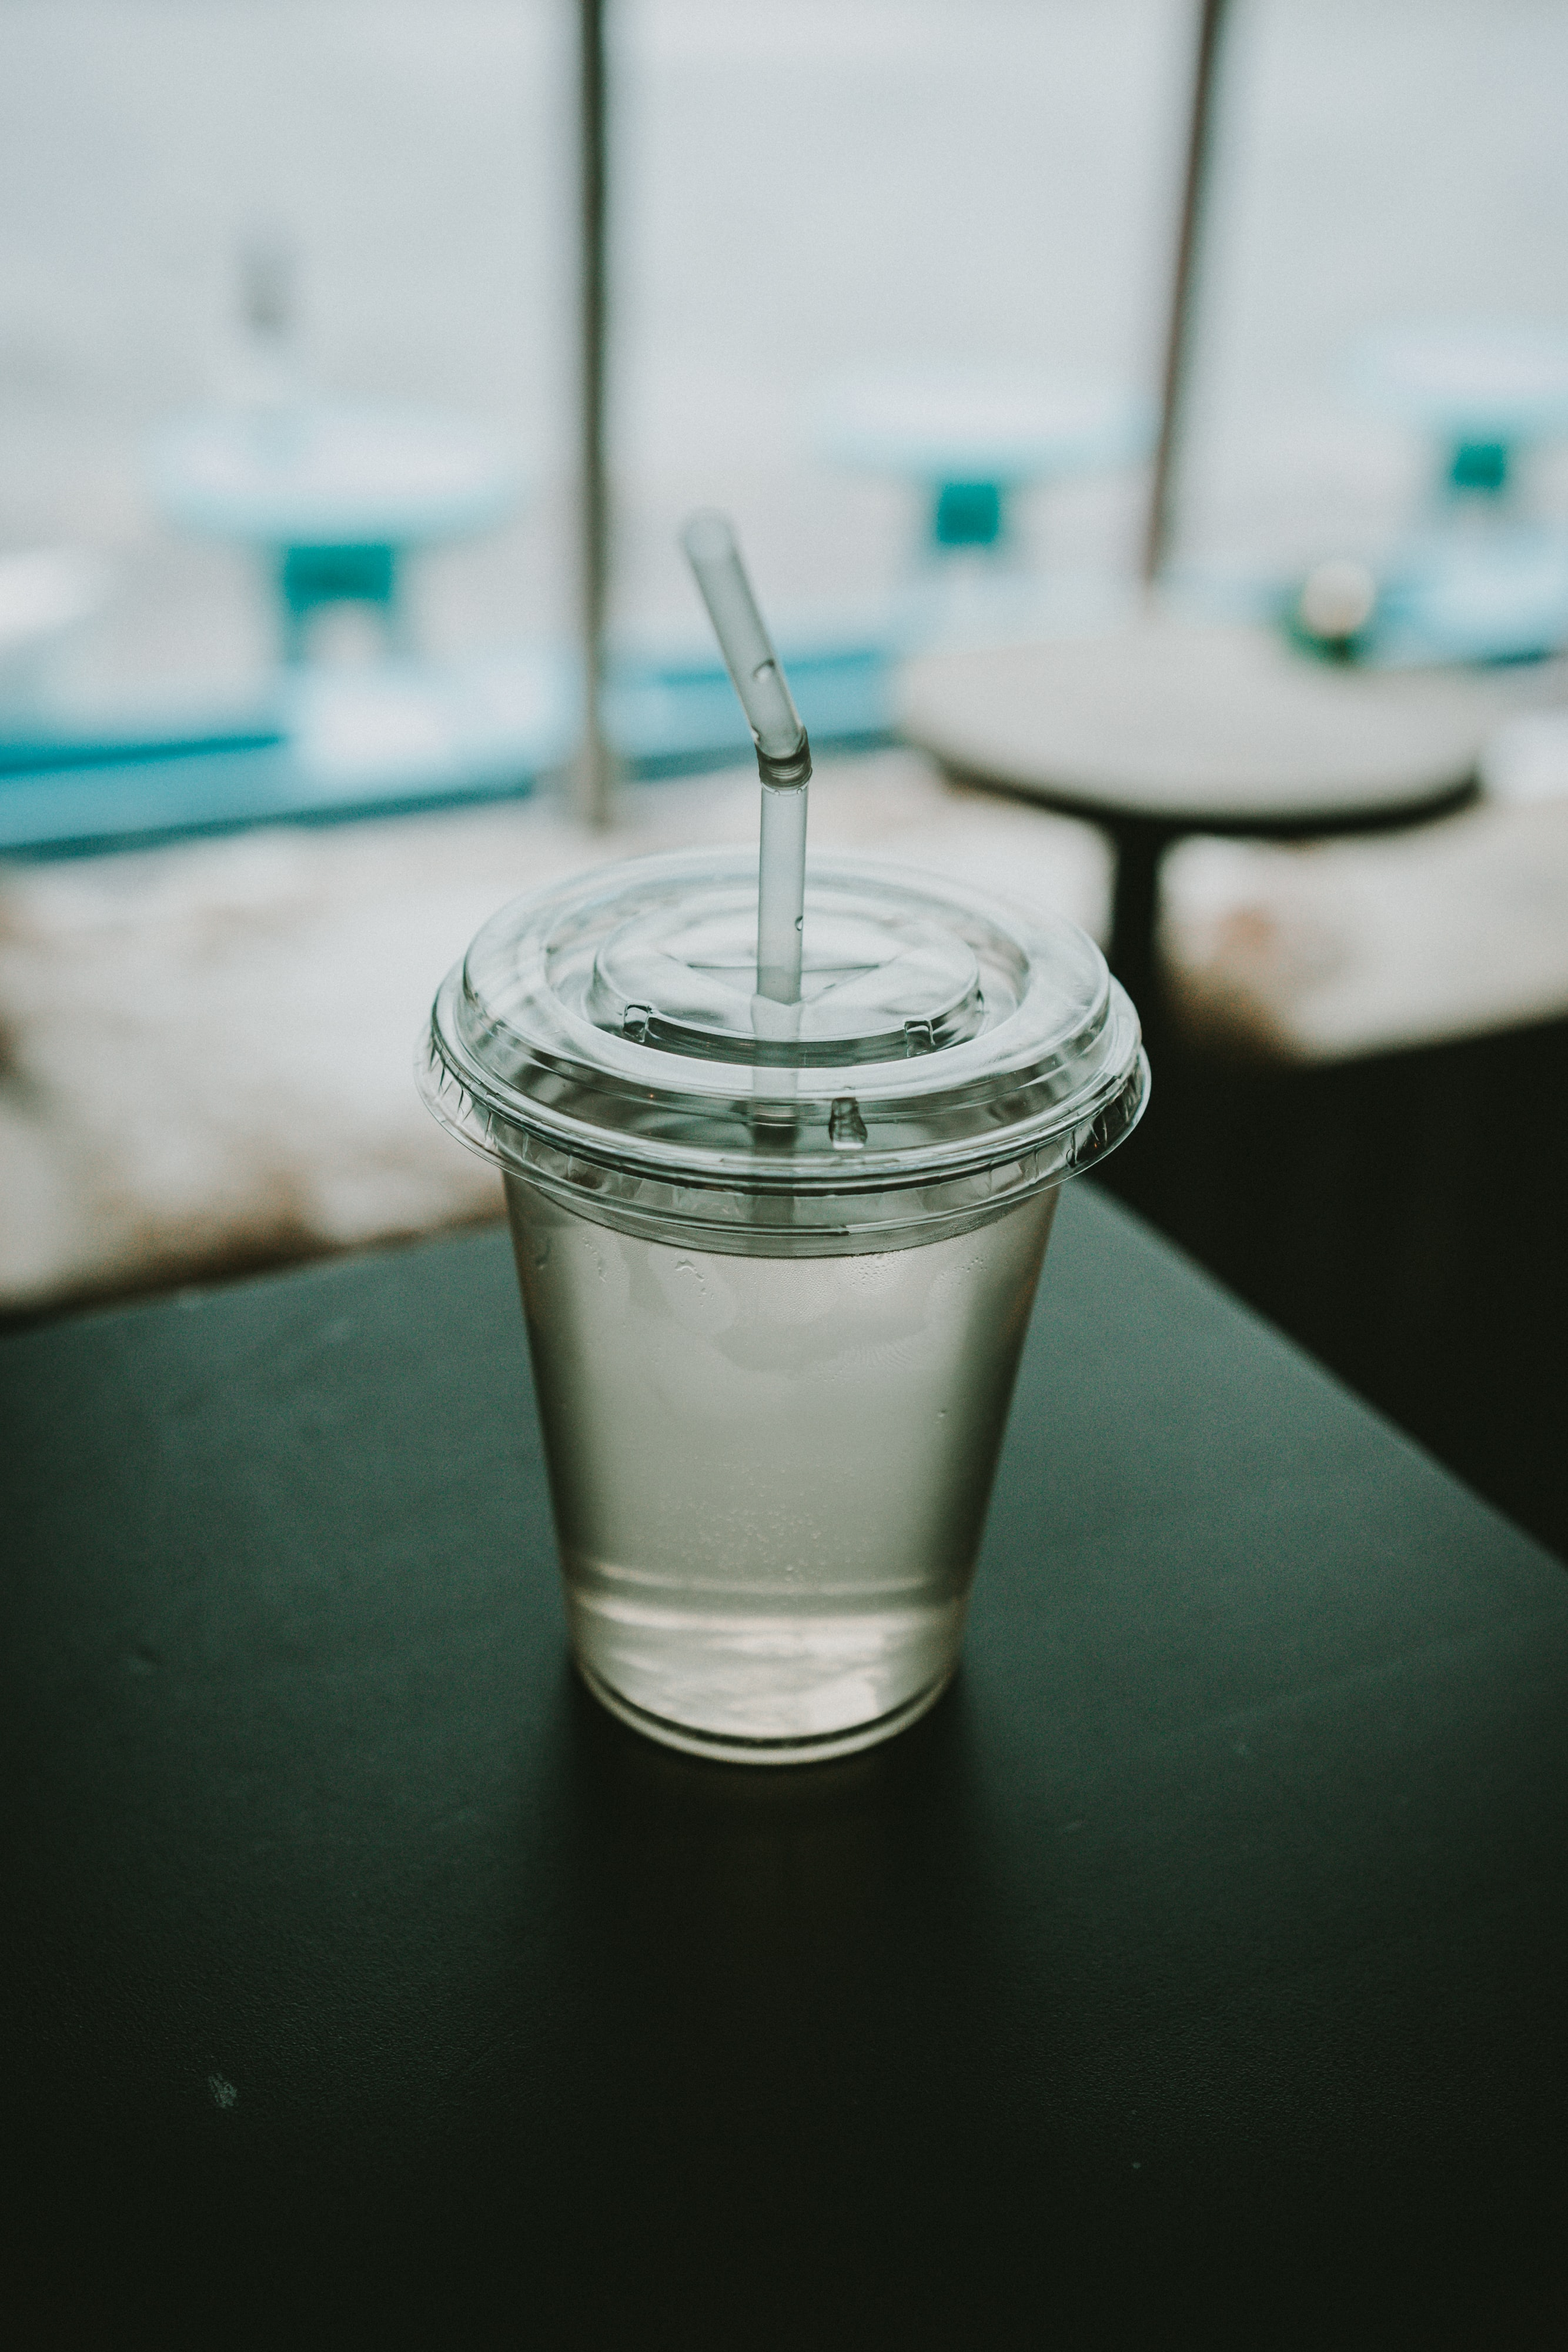plastic_glass: (257, 364, 1293, 2133)
